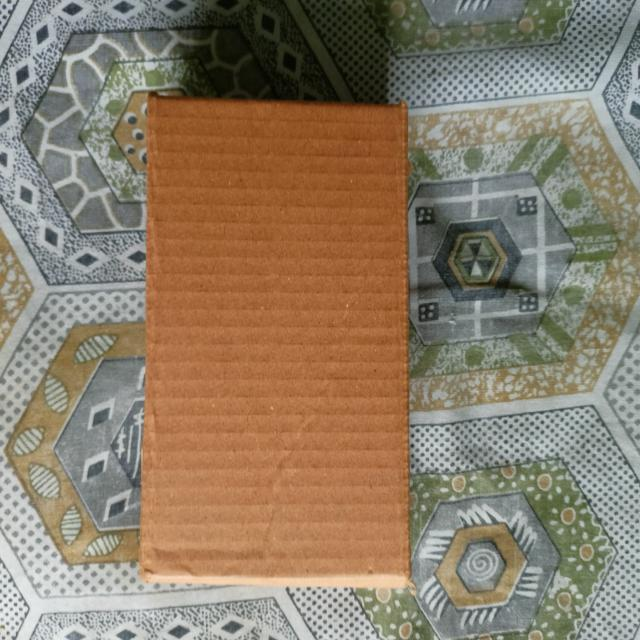box: (137, 95, 414, 593)
